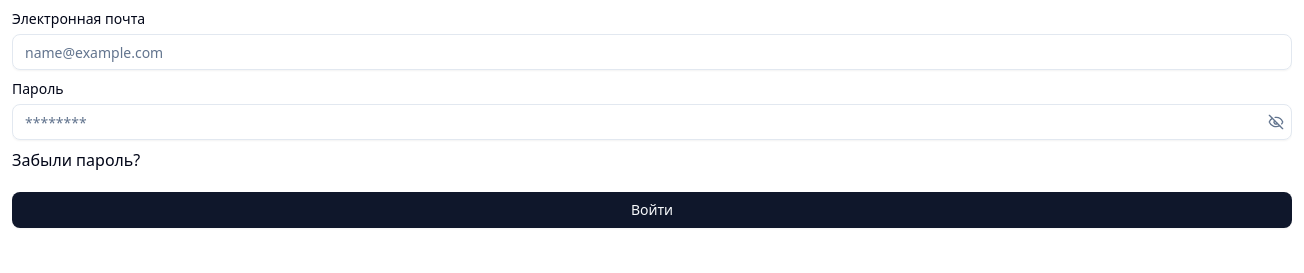
Scenario: UserAuthForm › shows validation error for short password
Type "user@example.com" into the field labelled "Электронная почта" at (652, 52), box [12,34,1292,70]
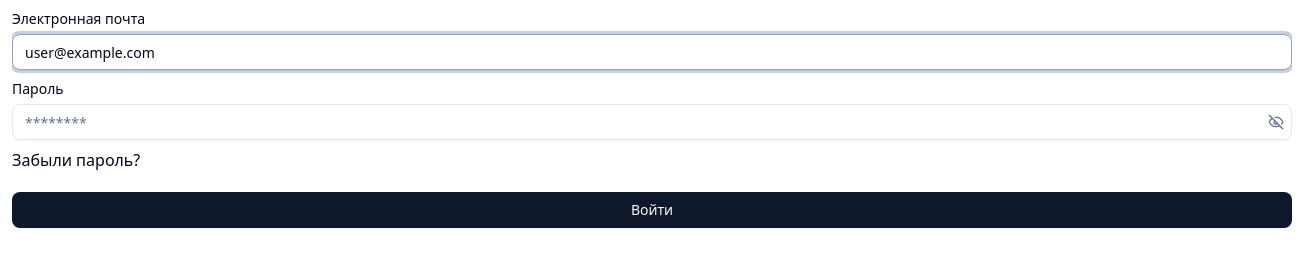
Type "12345" into the password field labelled "Пароль" at (652, 122), box [12,104,1292,140]
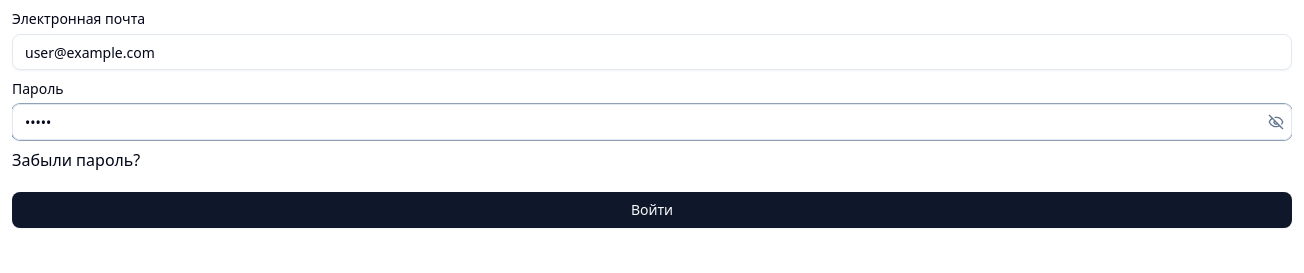
Click the button "Войти" at (652, 210), box [12,192,1292,228]
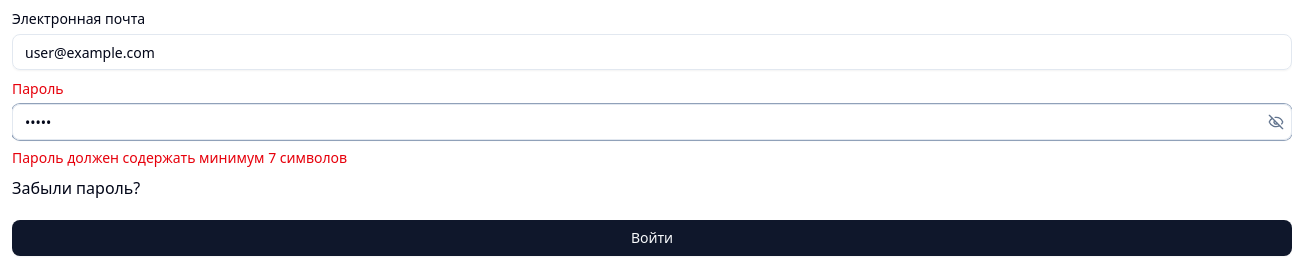
Check: the text "Пароль должен содержать минимум 7 символов" is shown, box [12,148,347,167]
